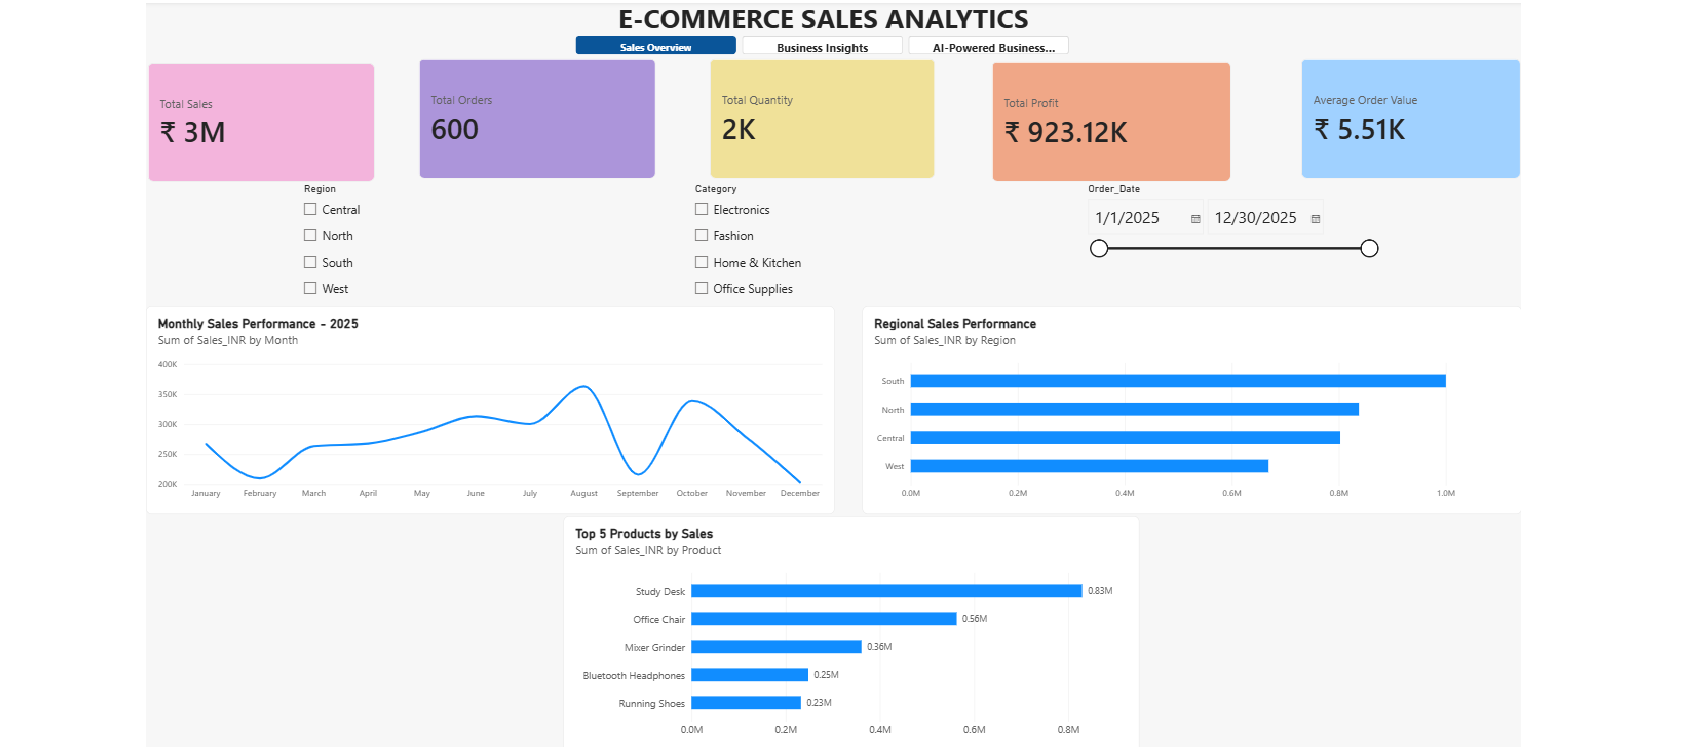

The dashboard page shown, as its layout file describes it:
{"tool":"powerbi","page":{"name":"Sales Overview","canvas":[1920,1080],"ordinal":0},"visuals":[{"type":"cardVisual","fields":{"Data":["ecommerce_sales_dataset.Total Sales"]},"box":[2.9,90.5,317.5,170.1],"z":0},{"type":"cardVisual","fields":{"Data":["ecommerce_sales_dataset.Total Orders"]},"box":[379.7,84.7,331.7,172.9],"z":1000},{"type":"cardVisual","fields":{"Data":["ecommerce_sales_dataset.Total Quantity"]},"box":[785.7,84.7,314.6,172.9],"z":2000},{"type":"cardVisual","fields":{"Data":["ecommerce_sales_dataset.Total Profit"]},"box":[1180,87.6,334.5,172.9],"z":3000},{"type":"cardVisual","fields":{"Data":["ecommerce_sales_dataset.Average Order Value"]},"box":[1612.3,84.7,306.1,172.9],"z":4000},{"type":"lineChart","title":"Monthly Sales Performance - 2025","fields":{"Category":["ecommerce_sales_dataset.Order_Date.Variation.Date Hierarchy.Month"],"Y":["Sum(ecommerce_sales_dataset.Sales_INR)"]},"box":[0,438.1,961,297.9],"z":5000},{"type":"clusteredBarChart","title":"Regional Sales Performance","fields":{"Category":["ecommerce_sales_dataset.Region"],"Y":["Sum(ecommerce_sales_dataset.Sales_INR)"]},"box":[998.9,438.1,920.1,297.9],"z":6000},{"type":"clusteredBarChart","title":"Top 5 Products by Sales","fields":{"Category":["ecommerce_sales_dataset.Product"],"Y":["Sum(ecommerce_sales_dataset.Sales_INR)"]},"box":[581.3,739,803.2,338.8],"z":7000},{"type":"slicer","fields":{"Values":["ecommerce_sales_dataset.Region"]},"box":[213.2,262.9,213.2,175.3],"z":8000},{"type":"slicer","fields":{"Values":["ecommerce_sales_dataset.Category"]},"box":[759.4,262.9,290,175],"z":9000},{"type":"slicer","fields":{"Values":["ecommerce_sales_dataset.Order_Date"]},"box":[1305.6,262.9,416.7,175.7],"z":10000},{"type":"textbox","box":[581.3,0,725.7,133.2],"z":11000},{"type":"pageNavigator","box":[598.8,52.6,689.3,26.3],"z":12000}]}

Visuals, with their boxes on the page's 1920x1080 design canvas (x1, y1, x2, y2). These are canvas units, not pixel positions in the 1685x747 screenshot, which may show the page scaled, cropped or inside an application window:
cardVisual - ecommerce_sales_dataset.Total Sales: <bbox>3, 90, 320, 261</bbox>
cardVisual - ecommerce_sales_dataset.Total Orders: <bbox>380, 85, 711, 258</bbox>
cardVisual - ecommerce_sales_dataset.Total Quantity: <bbox>786, 85, 1100, 258</bbox>
cardVisual - ecommerce_sales_dataset.Total Profit: <bbox>1180, 88, 1514, 260</bbox>
cardVisual - ecommerce_sales_dataset.Average Order Value: <bbox>1612, 85, 1918, 258</bbox>
"Monthly Sales Performance - 2025" lineChart: <bbox>0, 438, 961, 736</bbox>
"Regional Sales Performance" clusteredBarChart: <bbox>999, 438, 1919, 736</bbox>
"Top 5 Products by Sales" clusteredBarChart: <bbox>581, 739, 1384, 1078</bbox>
slicer - ecommerce_sales_dataset.Region: <bbox>213, 263, 426, 438</bbox>
slicer - ecommerce_sales_dataset.Category: <bbox>759, 263, 1049, 438</bbox>
slicer - ecommerce_sales_dataset.Order_Date: <bbox>1306, 263, 1722, 439</bbox>
textbox: <bbox>581, 0, 1307, 133</bbox>
pageNavigator: <bbox>599, 53, 1288, 79</bbox>
